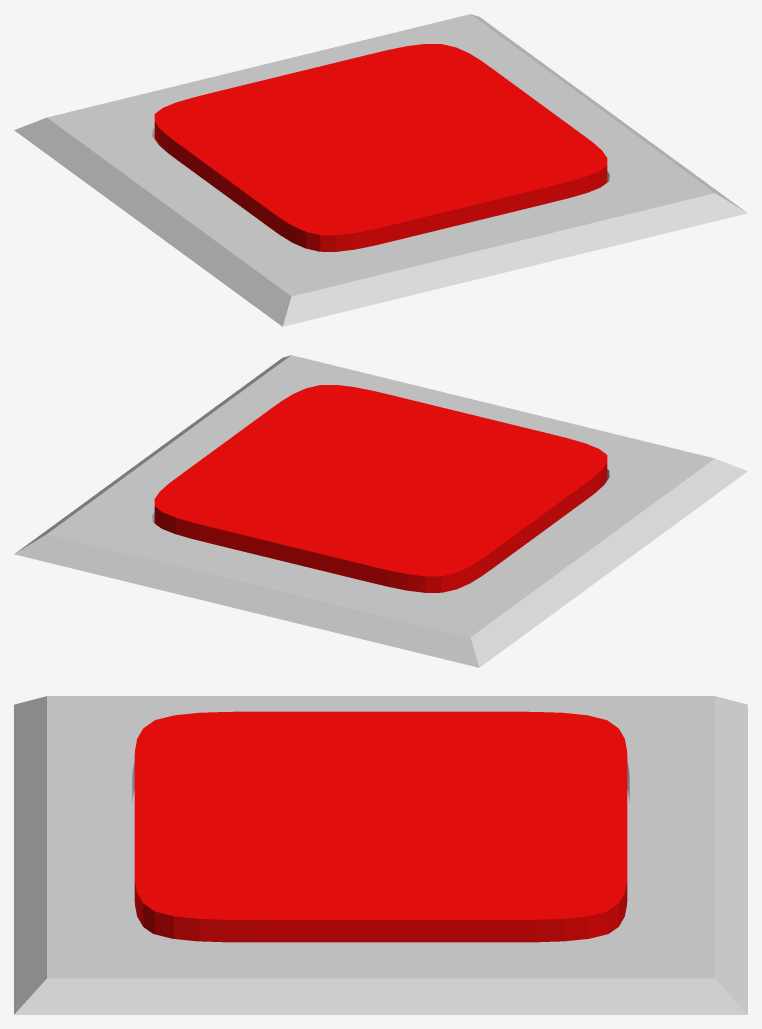
File: props.fbx_B7.fbx
The picture shows the model from 3 angles, top to bottom: view 1: azimuth 30°, elevation 25°; view 2: azimuth 150°, elevation 25°; view 3: azimuth 270°, elevation 25°; orthographic projection. The views are drawn at different scales.
Visible parts, largest first — view 1: Plane.004, Plane.007; view 2: Plane.004, Plane.007; view 3: Plane.004, Plane.007.
Part boxes in pixels (x1,y1,x2,y2): Plane.004: (14, 14, 747, 326); Plane.007: (154, 44, 607, 251); Plane.004: (14, 355, 747, 667); Plane.007: (154, 385, 607, 592); Plane.004: (14, 696, 747, 1014); Plane.007: (134, 711, 627, 942).
Size of the model in its own units: 1.5 by 0.1111 by 1.5.
